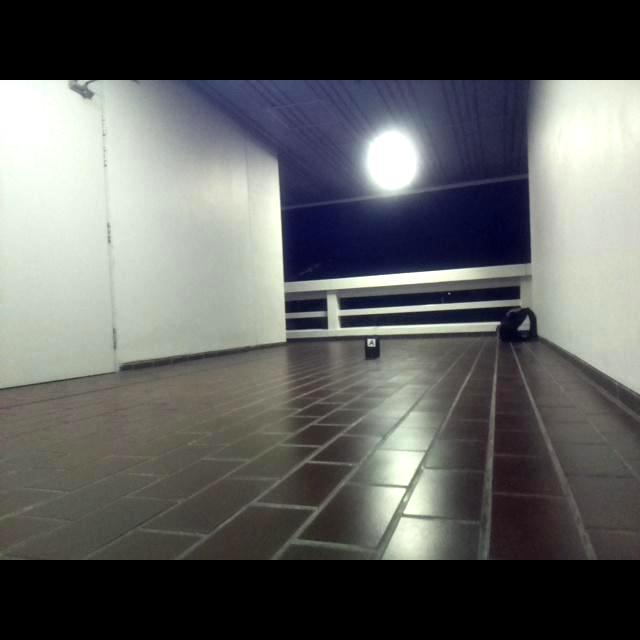A: (368, 338, 375, 347)
